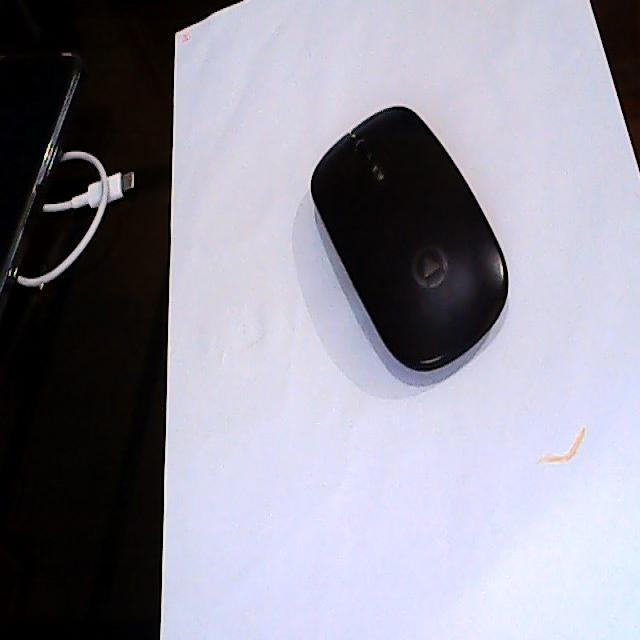-keyboard-: (308, 102, 511, 374)
